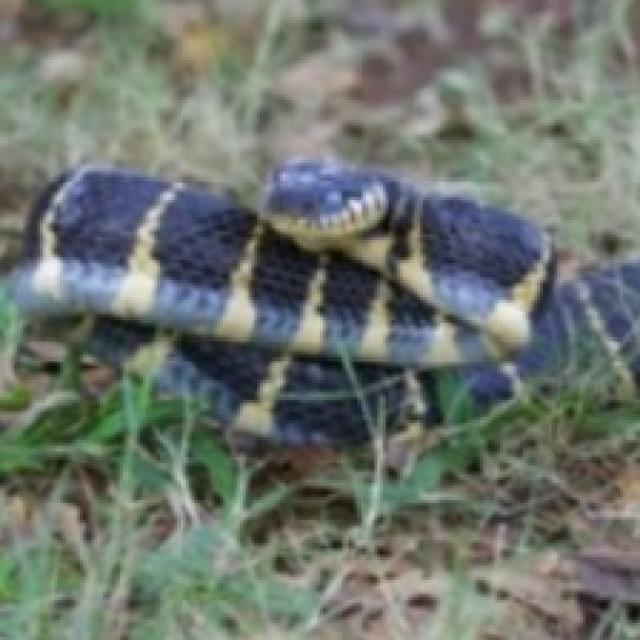mangrove cat snake: (11, 157, 637, 457)
